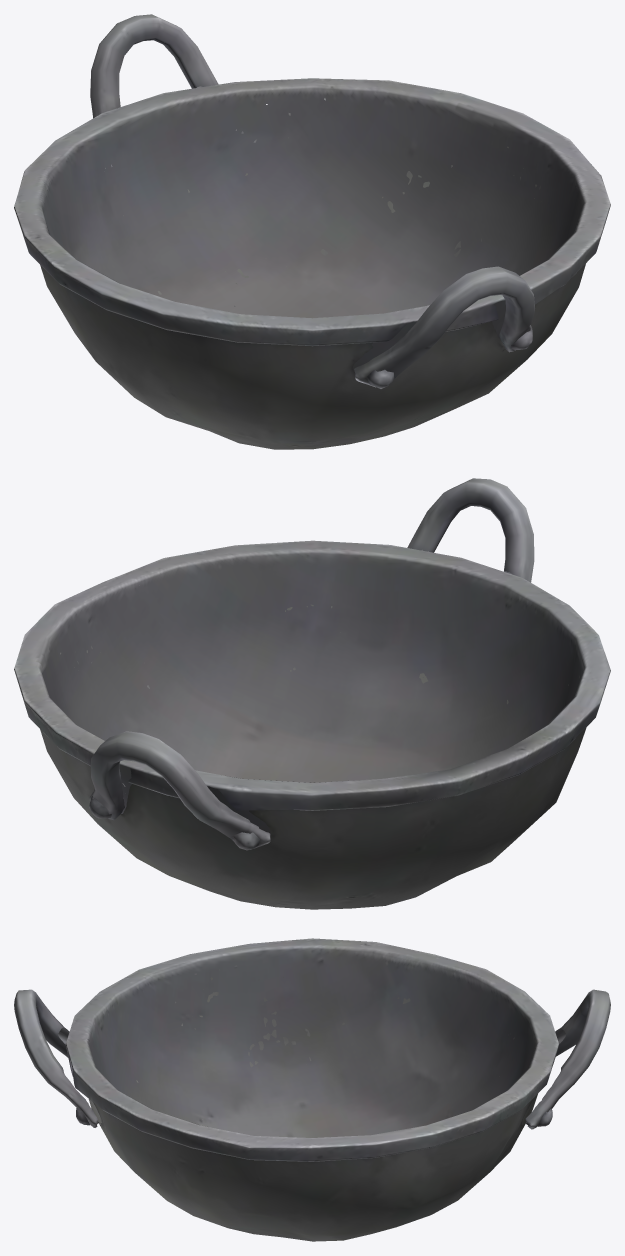
3 renders of one model, top to bottom at view 1: azimuth 30°, elevation 25°; view 2: azimuth 150°, elevation 25°; view 3: azimuth 270°, elevation 25°, orthographic. The views are drawn at different scales.
Parts seen in each view (by area): view 1: SM_Cookware_CastIron_Pot_Medium_01_LOD0; view 2: SM_Cookware_CastIron_Pot_Medium_01_LOD0; view 3: SM_Cookware_CastIron_Pot_Medium_01_LOD0.
Boxes of the visible parts, x1,y1,x2,y2 form: SM_Cookware_CastIron_Pot_Medium_01_LOD0: (14, 14, 610, 449); SM_Cookware_CastIron_Pot_Medium_01_LOD0: (14, 478, 610, 909); SM_Cookware_CastIron_Pot_Medium_01_LOD0: (14, 938, 610, 1241).
Size of the model in its own units: 0.5134 by 0.249 by 0.6208.
Materials: 1 (1 with a texture image).
